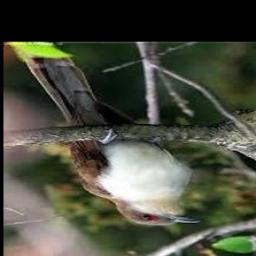Cuckoo: (26, 56, 203, 225)
